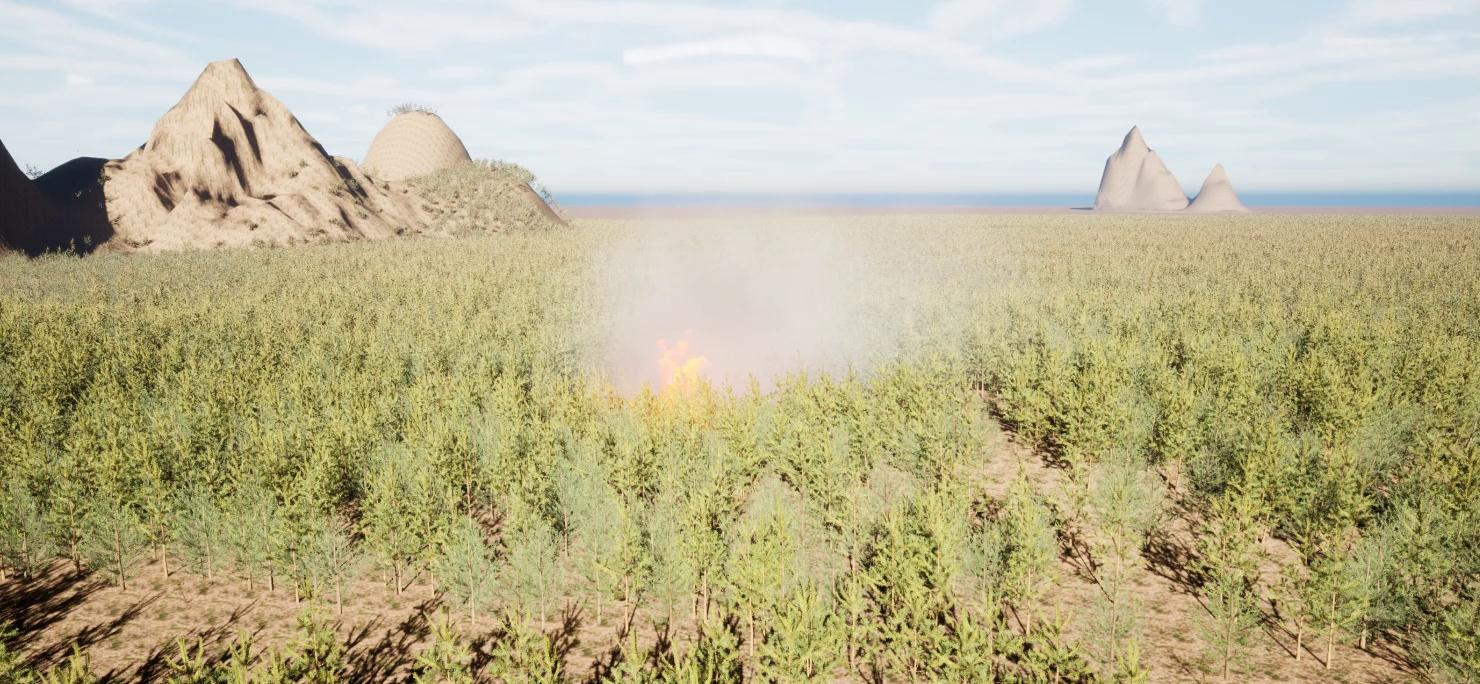fire: (644, 320, 716, 396)
smoke: (581, 159, 978, 399)
